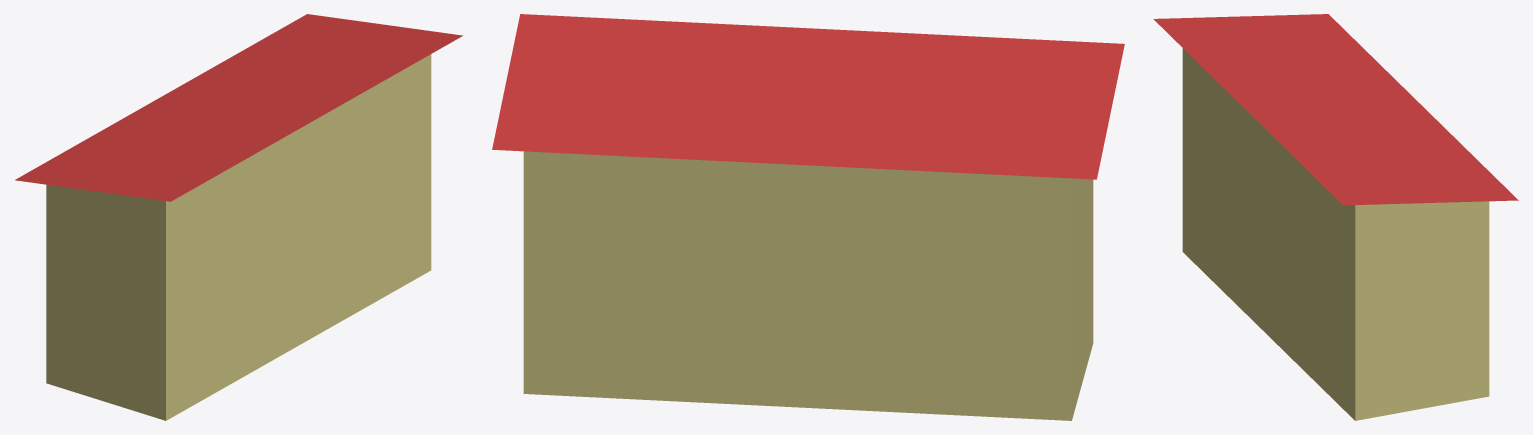
3 renders of one model, left to right at view 1: azimuth 30°, elevation 25°; view 2: azimuth 150°, elevation 25°; view 3: azimuth 270°, elevation 25°, orthographic. The views are drawn at different scales.
Bounding box in the file's own units: 11.5 × 8.13 × 5.6.
